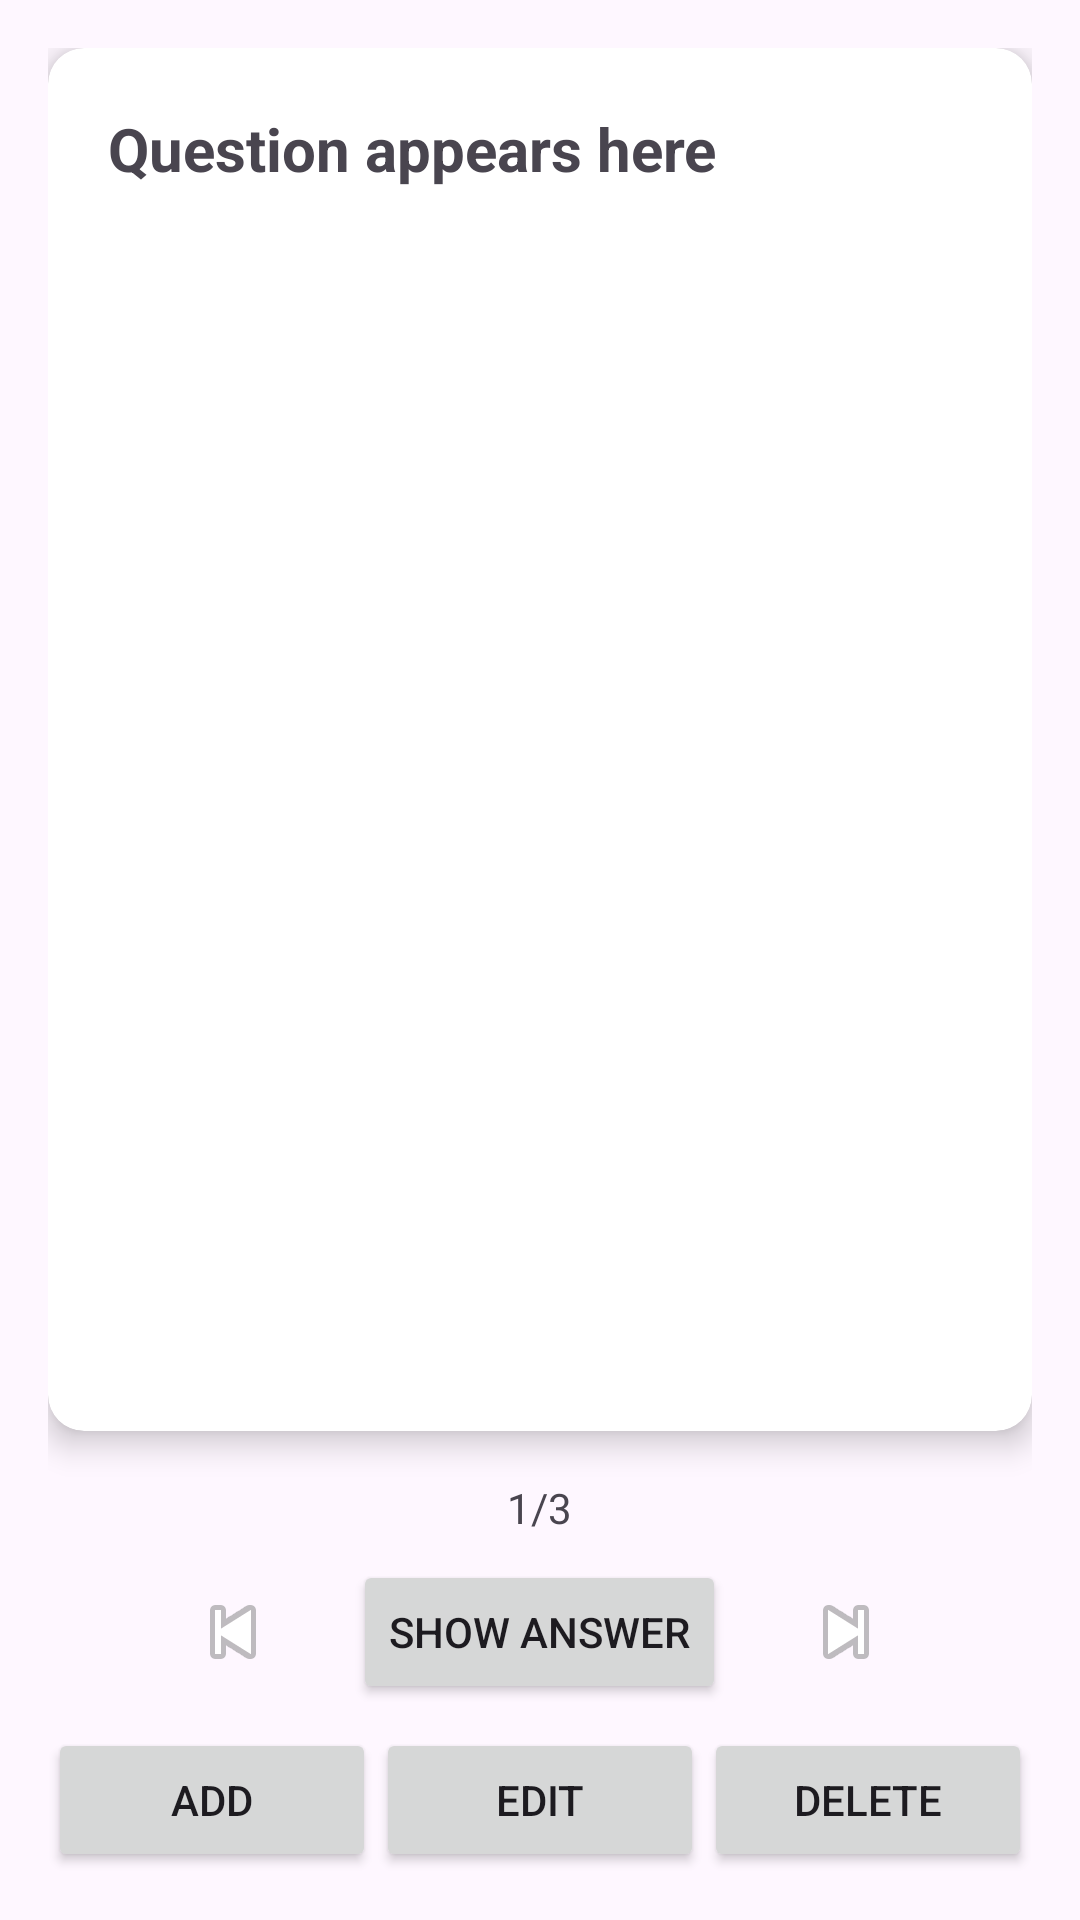

Icon bounding boxes for this 1080 x 1920 phone screenshot, format (x1, y1, x2, y2):
Next: (823, 1605, 869, 1659)
Previous: (210, 1605, 256, 1659)
